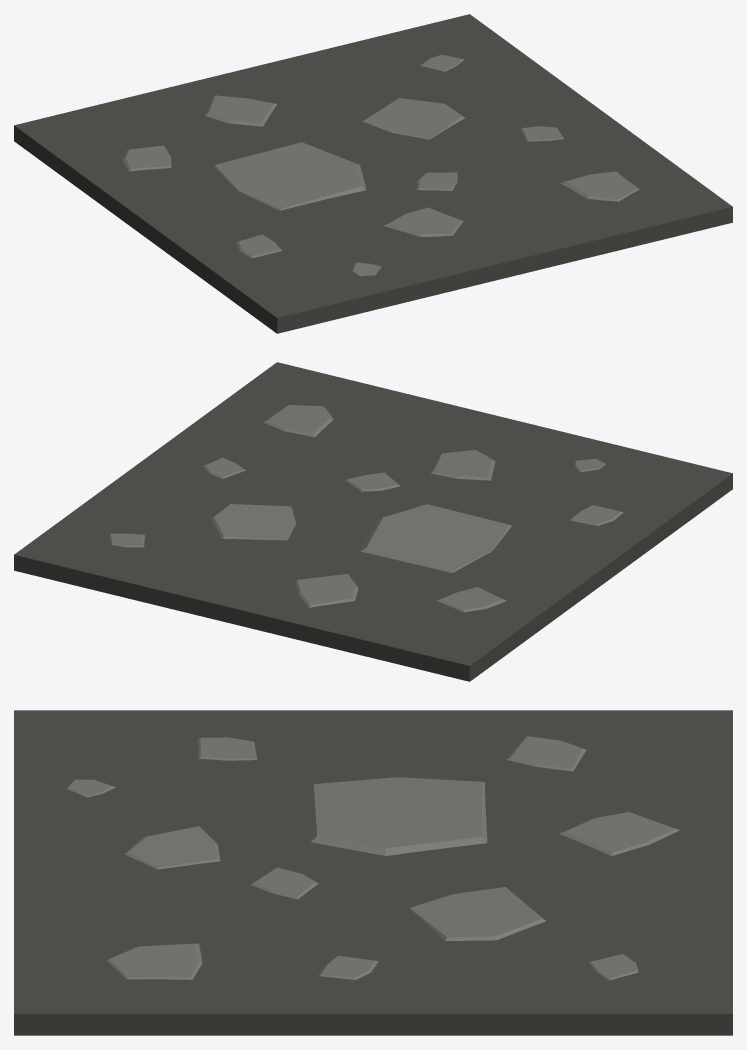
File: floor_4.glb
3 views of the same model, one above another, from view 1: azimuth 30°, elevation 25°; view 2: azimuth 150°, elevation 25°; view 3: azimuth 270°, elevation 25° (orthographic). The views are drawn at different scales.
Visible parts, largest first — view 1: Floor_4; view 2: Floor_4; view 3: Floor_4.
Boxes of the visible parts, box(x1,y1,x2,y2) form: Floor_4: box(14, 14, 732, 333); Floor_4: box(14, 362, 732, 681); Floor_4: box(14, 710, 732, 1035).
Bounding box in the file's own units: 3 × 0.1207 × 3.
1 material, 1 textured.
